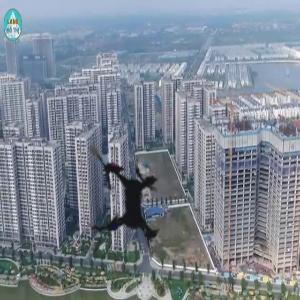drone: (34, 108, 222, 296)
